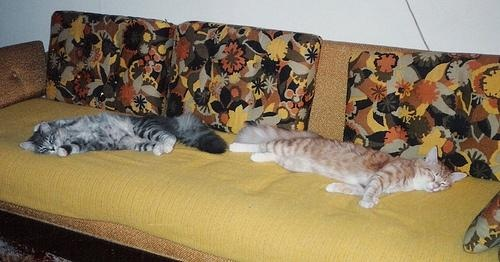cat: (229, 123, 468, 211), (19, 112, 227, 156)
sofa: (2, 11, 500, 262)
